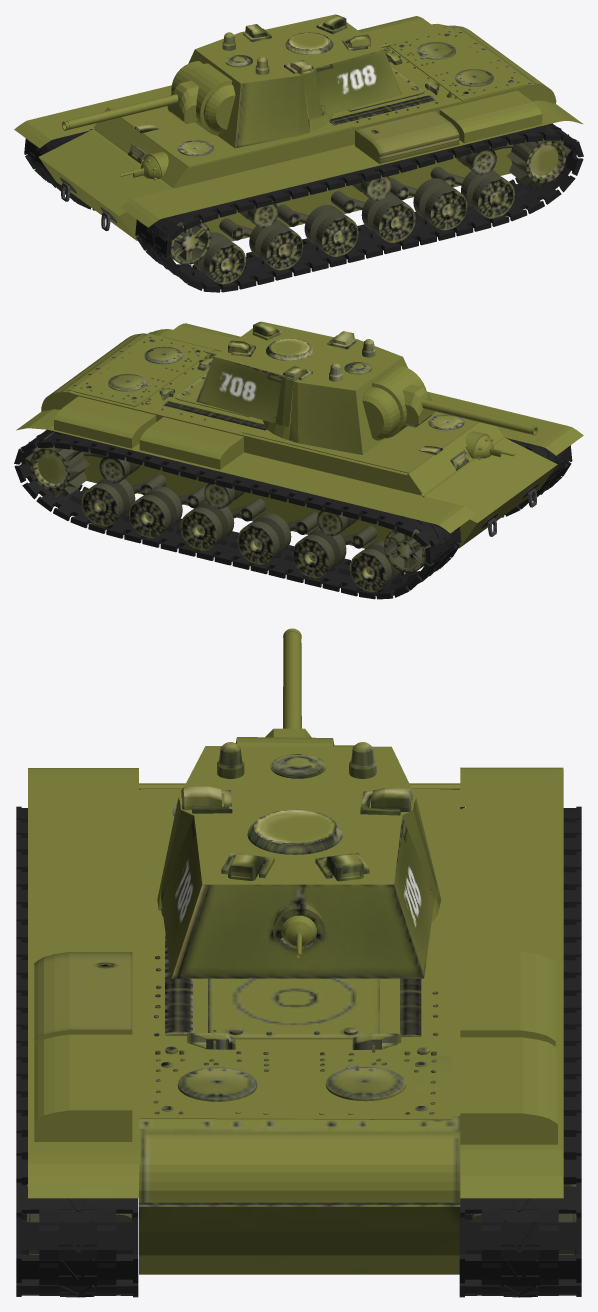
Rendered from Tank.fbx.
The picture shows the model from 3 angles, top to bottom: view 1: azimuth 30°, elevation 25°; view 2: azimuth 150°, elevation 25°; view 3: azimuth 270°, elevation 25°; orthographic projection. The views are drawn at different scales.
Visible parts, largest first — view 1: Cube, Куб, Цилиндр.001, Куб.001; view 2: Cube, Куб, Цилиндр.001, Куб.001; view 3: Cube, Куб, Куб.001.
Part boxes in pixels (<box>): Cube: <box>14,16,583,241</box>; Куб: <box>62,14,401,148</box>; Цилиндр.001: <box>165,125,571,284</box>; Куб.001: <box>24,123,583,292</box>; Cube: <box>16,323,583,548</box>; Куб: <box>196,321,537,454</box>; Цилиндр.001: <box>25,431,430,592</box>; Куб.001: <box>14,429,572,599</box>; Cube: <box>28,767,563,1274</box>; Куб: <box>157,628,441,978</box>; Куб.001: <box>16,806,581,1297</box>.
Bounding box in the file's own units: 665 × 245 × 360.
Materials: 4 (3 with a texture image).
